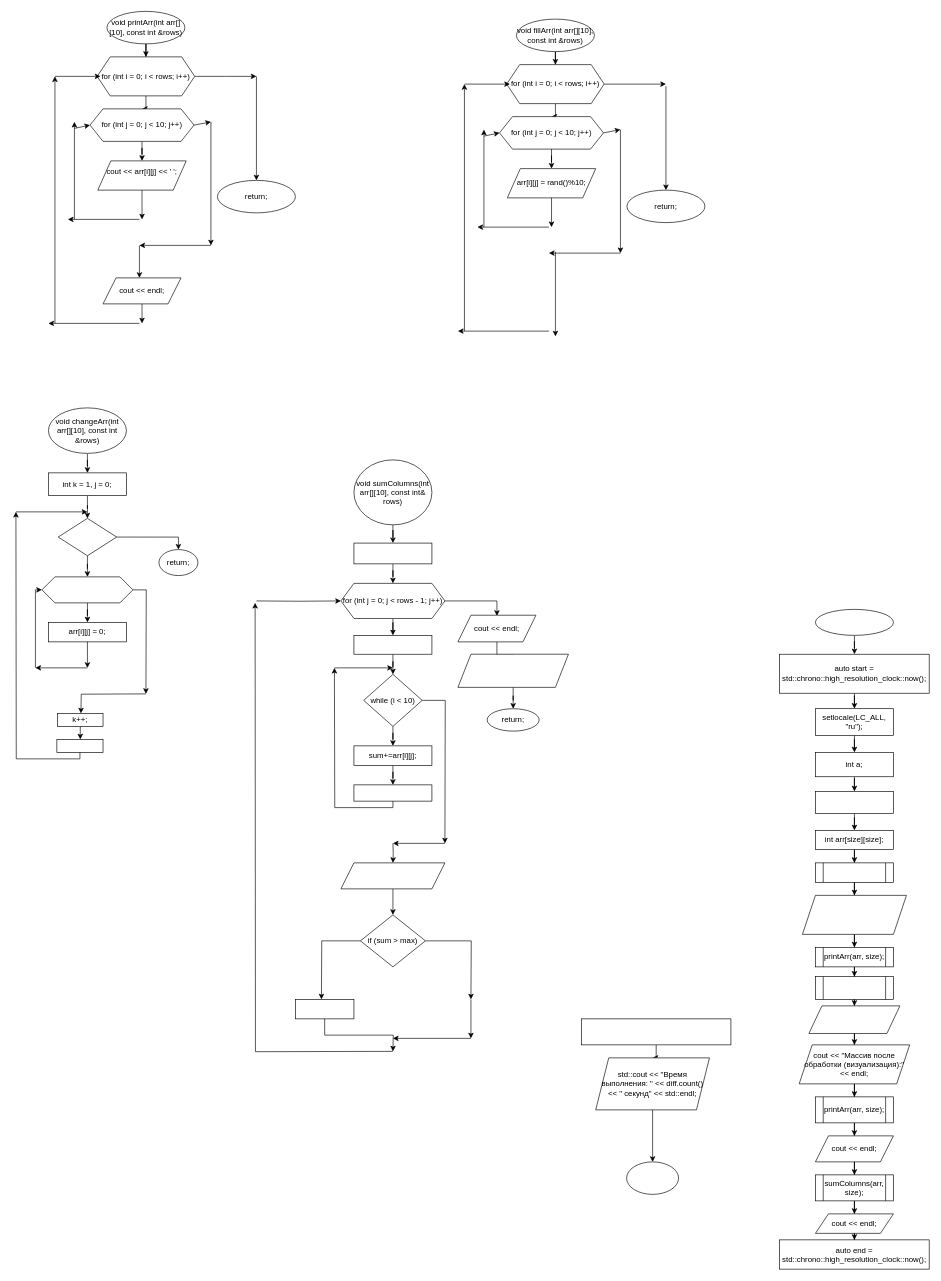
The diagram is 941 pixels wide and 1281 high, and some of its shapes have lost their labels. The centre of each missing label's shape, as x and y in pixels:
changeArr(arr, size);: point (854, 987)
const int size = 10;: point (854, 802)
cout << "Максимальная сумма: " << max;: point (512, 670)
cout << "Массив после заполнения:" << endl;: point (854, 914)
cout << endl << endl;: point (854, 1019)
cout << sum << ' ';: point (392, 875)
fillArr(arr, size);: point (854, 872)
for (int i = rows-1; i > rows - 1 - k; i--): point (87, 589)
i++;: point (392, 792)
int i = 0, sum = 0;: point (392, 644)
int main(): point (854, 622)
int max = 0;: point (392, 553)
j++;: point (79, 745)
max = sum;: point (324, 1009)
return 0;: point (652, 1177)
std::chrono::duration<double> diff = end - start;: point (656, 1031)
while (k < 10): point (87, 537)
